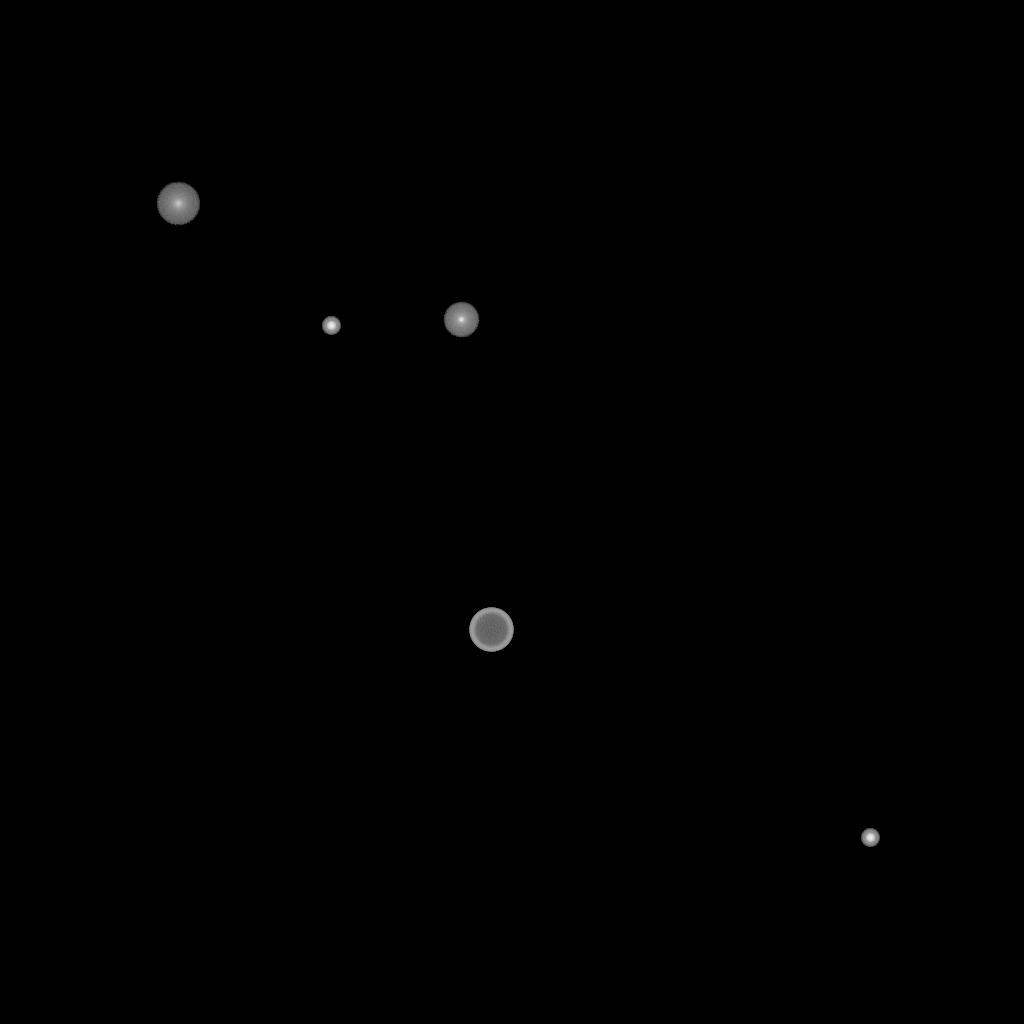depth:-20: (322, 317, 340, 335), (861, 829, 879, 847)
depth:-70: (469, 608, 513, 652)
depth:0: (443, 302, 479, 338)
depth:10: (156, 182, 200, 226)
